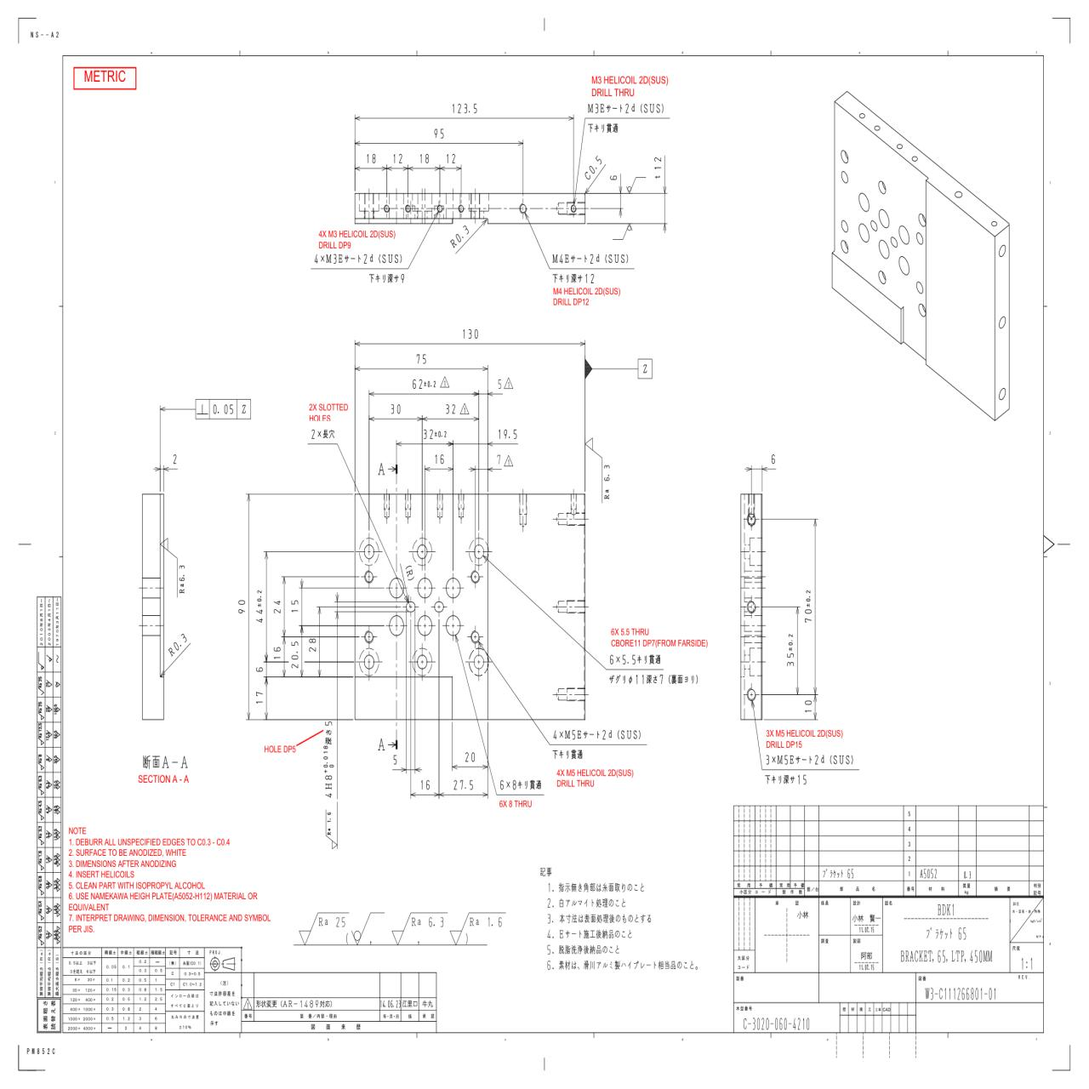basic_dimension: (323, 745, 334, 798), (452, 103, 477, 115), (498, 429, 518, 440), (453, 779, 473, 790), (213, 404, 234, 414), (291, 641, 298, 669), (463, 329, 478, 340), (416, 353, 427, 364), (446, 152, 456, 164), (434, 128, 444, 139), (393, 153, 403, 164), (391, 404, 401, 415), (435, 454, 445, 464), (465, 752, 475, 762), (420, 153, 429, 164), (446, 403, 455, 414), (274, 600, 281, 614), (309, 638, 316, 652), (238, 600, 245, 613), (256, 691, 263, 704), (805, 700, 812, 713), (367, 154, 376, 164), (421, 780, 430, 790), (291, 600, 298, 612), (274, 647, 281, 659), (172, 453, 177, 466), (498, 379, 502, 390), (610, 175, 617, 181), (771, 454, 775, 464), (256, 667, 263, 672), (497, 454, 500, 465), (393, 754, 396, 765)
datum_symbol: (585, 357, 652, 381)
dimension_chamfer_symbol: (583, 154, 603, 182)
dimension_chamfer_text: (588, 154, 603, 175)
dimension_diameter_symbol: (628, 674, 644, 684)
dimension_diameter_text: (636, 674, 645, 685)
dimension_metric_symbol: (552, 252, 565, 265), (564, 729, 576, 741), (587, 103, 599, 115), (325, 253, 338, 264), (776, 754, 788, 765)
dimension_metric_text: (595, 103, 599, 114), (572, 729, 576, 740), (784, 754, 788, 765), (560, 254, 563, 264)
dimension_radius_symbol: (166, 631, 188, 660), (449, 224, 470, 251), (404, 567, 415, 579)
dimension_radius_text: (454, 224, 470, 244), (172, 632, 188, 652)
dimension_thickness_symbol: (654, 156, 662, 179)
dimension_thickness_text: (654, 157, 662, 170)
explicit_tolerance_text: (412, 378, 437, 389), (423, 429, 447, 439), (256, 590, 263, 623), (787, 633, 794, 666), (805, 590, 812, 623)
gdt_frame_symbol: (194, 397, 252, 421)
gdt_perpendicularity_symbol: (197, 404, 208, 414)
revision_triangle_symbol: (503, 376, 514, 389), (439, 375, 450, 388), (504, 455, 514, 467), (460, 402, 470, 414)
surface_finish_symbol: (584, 437, 610, 504), (159, 536, 185, 598), (326, 809, 338, 850), (613, 222, 633, 240), (626, 177, 646, 194)
surface_finish_text: (179, 564, 185, 582), (604, 465, 610, 481), (327, 812, 331, 823)
